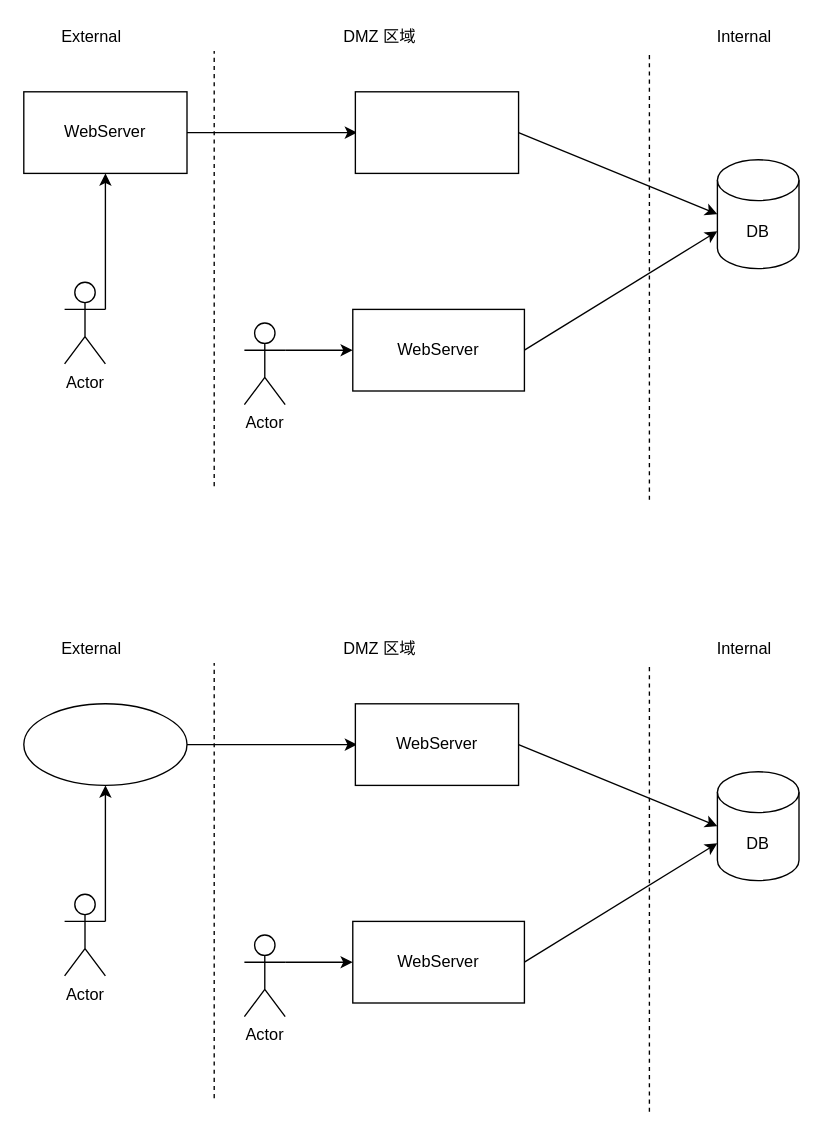
The diagram is 823 pixels wide and 1137 high, and some of its shapes have lost their labels. The box of each missing label's shape, as (x1, y1, x2, y2) in pixels:
Reverse Proxy: (22, 702, 187, 785)
WCF WebService: (354, 90, 519, 173)
